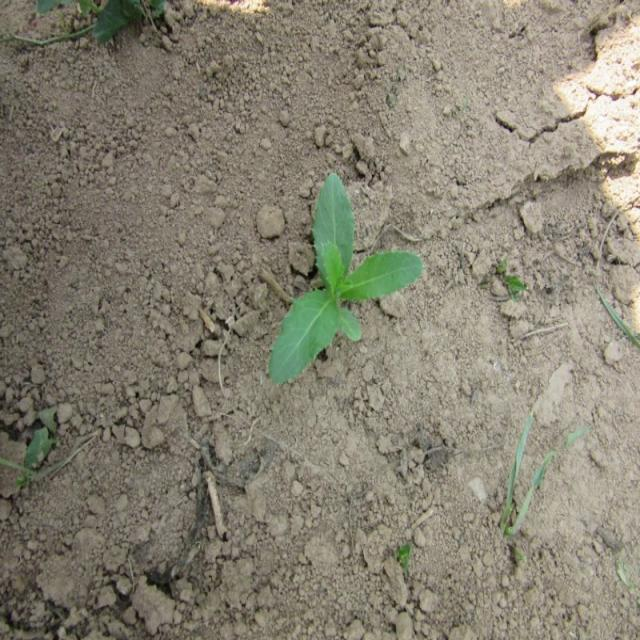cs: (267, 169, 423, 391)
